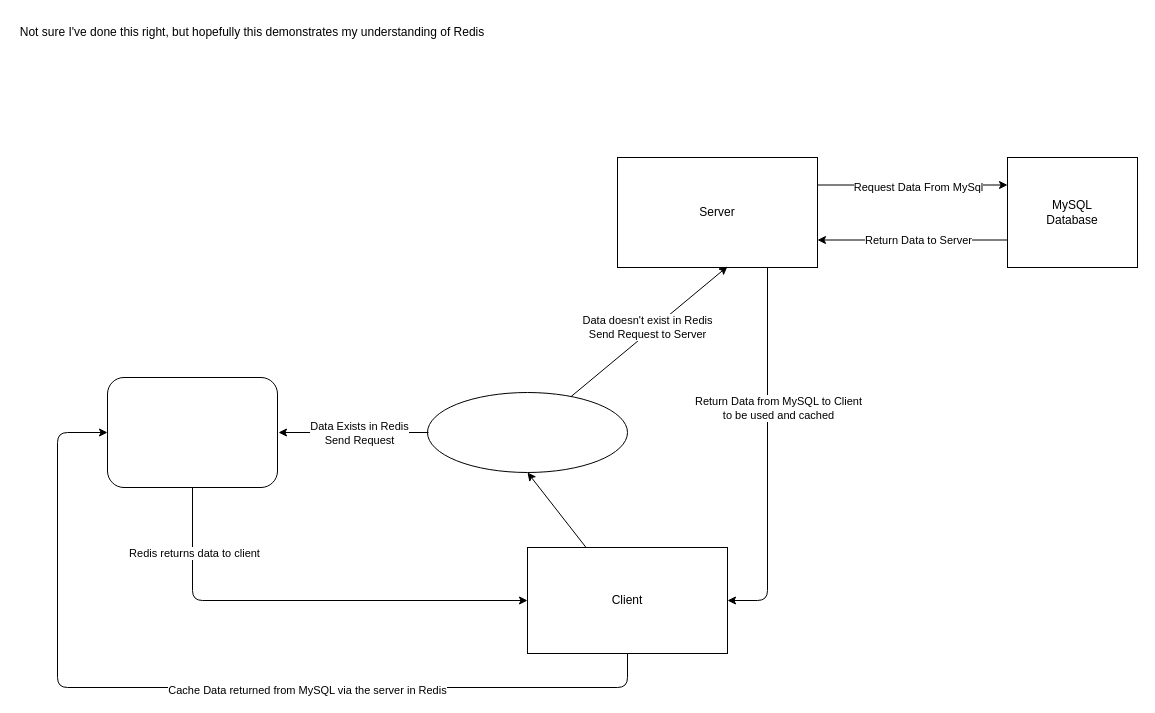
Image size: 1155x713. Some labels were removed from this diagram. Each missing label, with the centre of its shape:
Fetch Data from URL: (527,432)
Redis: (192,432)
